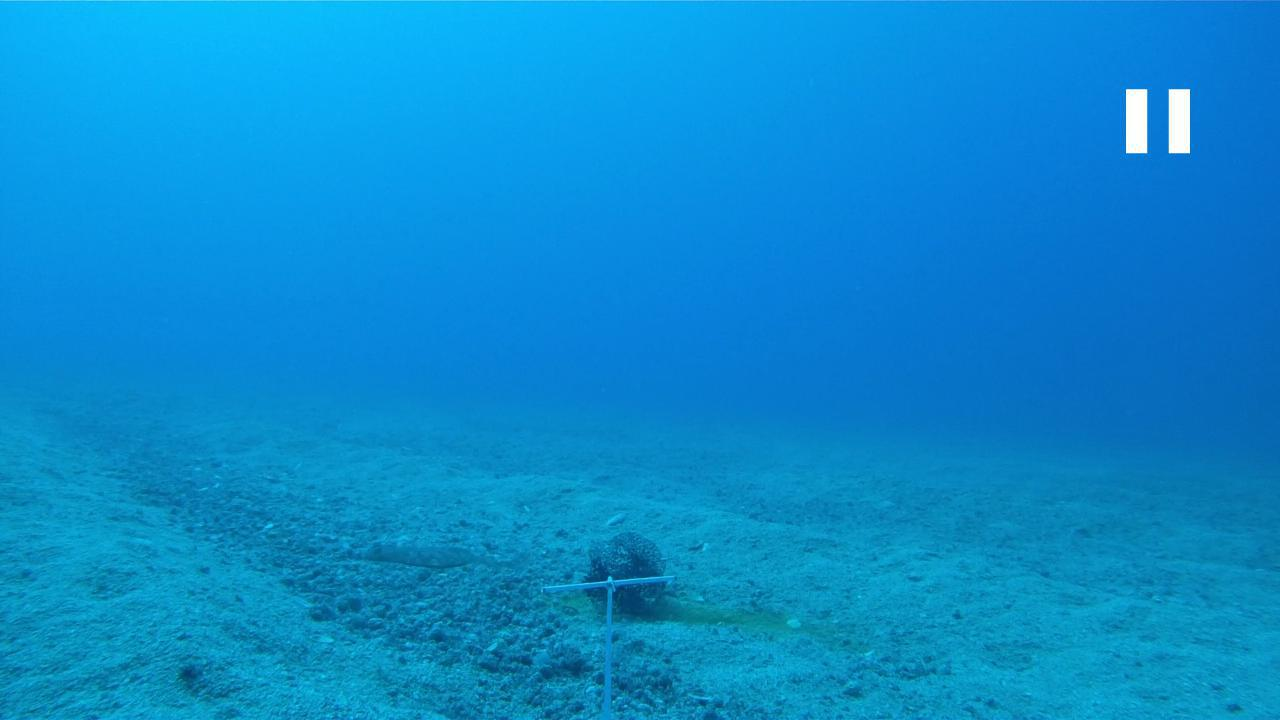bothus: (359, 538, 482, 568)
